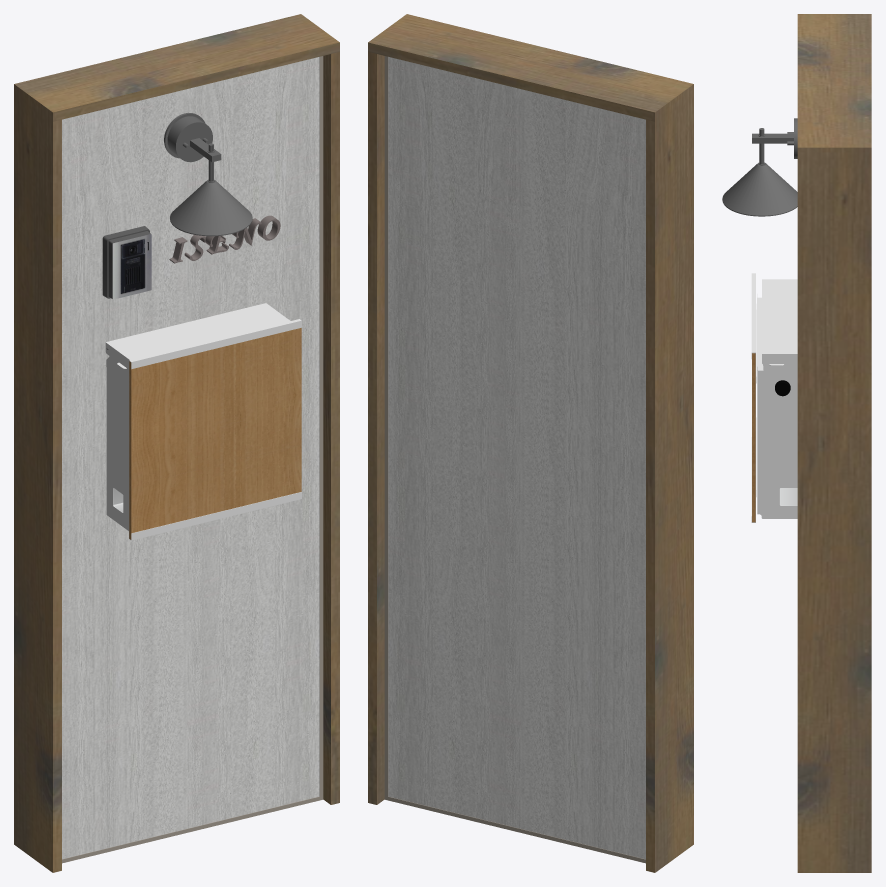
Rendered from 640-1620_offwhite.fbx.
3 renders of one model, left to right at view 1: azimuth 30°, elevation 25°; view 2: azimuth 150°, elevation 25°; view 3: azimuth 270°, elevation 25°, orthographic. The views are drawn at different scales.
Parts seen in each view (by area): view 1: 640-1620_offwhite; view 2: 640-1620_offwhite; view 3: 640-1620_offwhite.
Part boxes in pixels (left/top/right/bottom): 640-1620_offwhite: left=14, top=14, right=339, bottom=872; 640-1620_offwhite: left=368, top=14, right=693, bottom=872; 640-1620_offwhite: left=722, top=14, right=871, bottom=872.
Bounding box in the file's own units: 64 × 162 × 30.22.
Materials: 14 (5 with a texture image).
